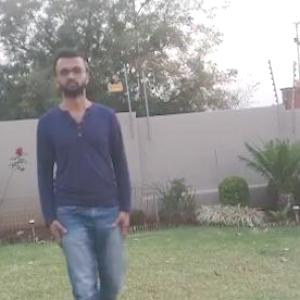follow: (40, 54, 132, 299)
